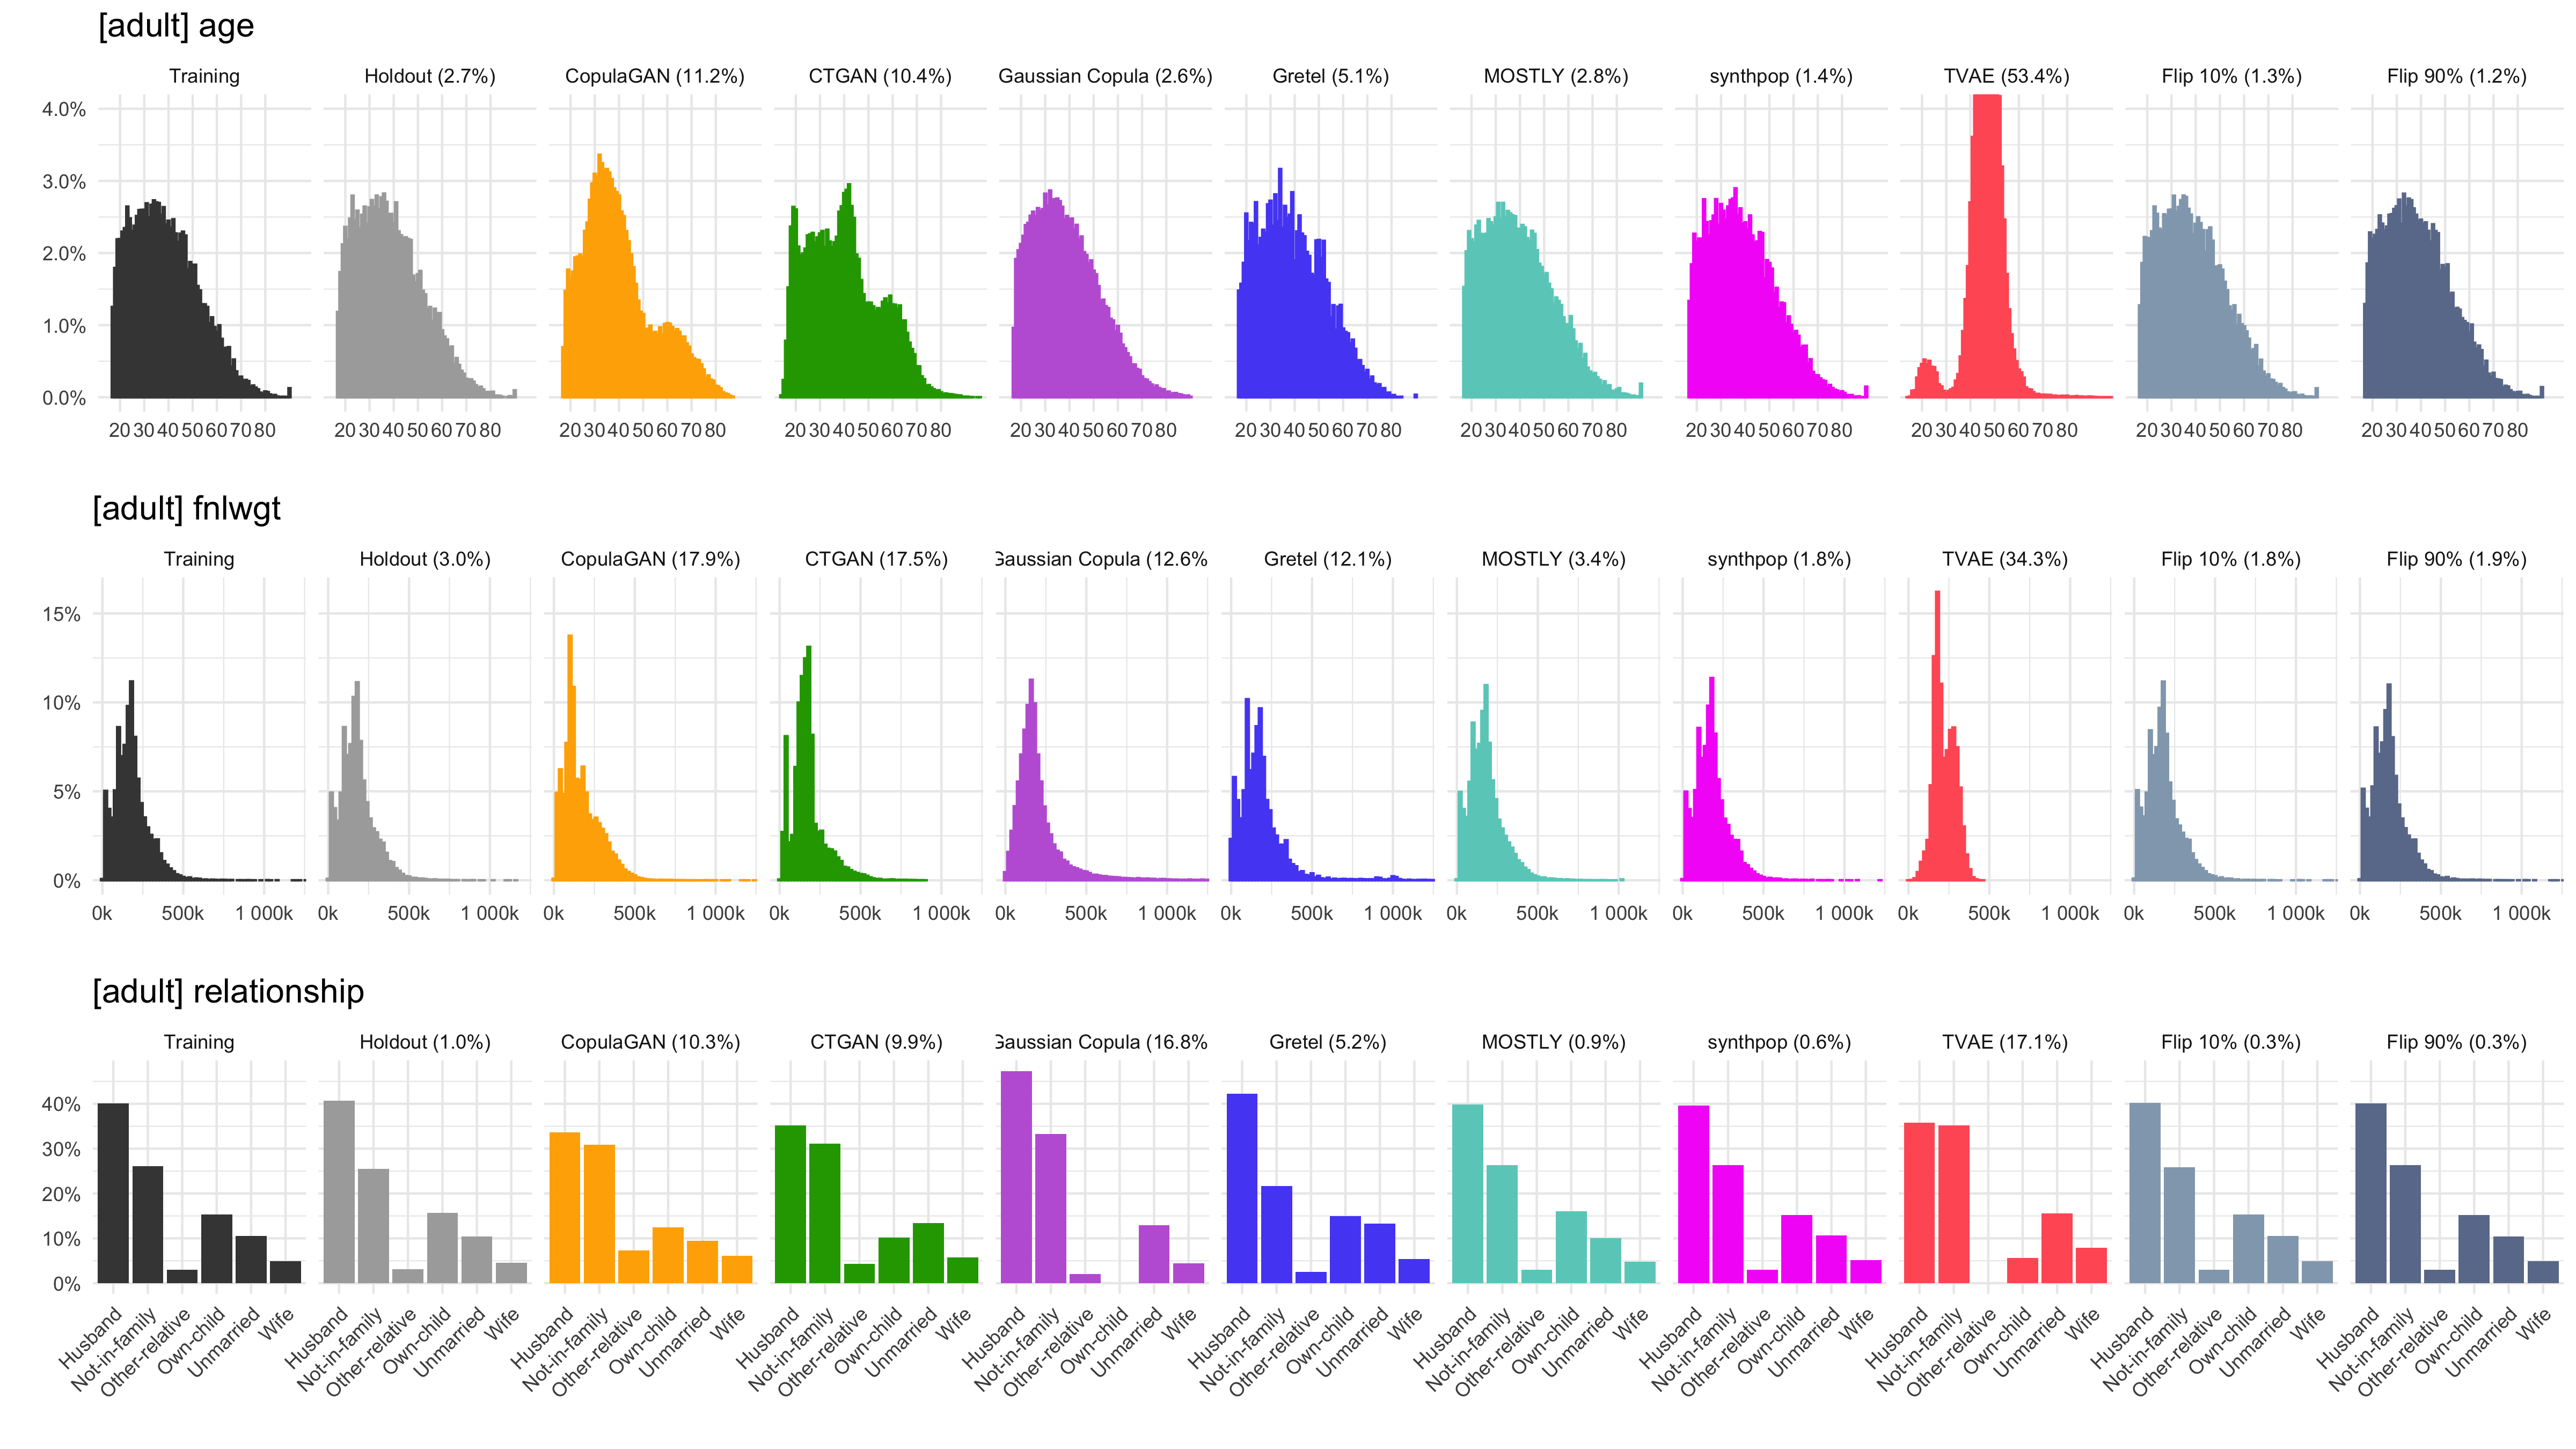

Layout of this report page (visuals, bound fields, positions):
{"tool":"tableau","page":{"name":"df_adult","canvas":[700,500],"ordinal":0},"visuals":[{"type":"worksheet","title":"df1","mark":"Automatic","rows":["priv_share"],"cols":["fid3_ratio"],"box":[8,8,524,484]},{"type":"blank","box":[532,8,160,32]},{"type":"legend","title":"df1","param":"[federated.0exfi0i05gmj3d14msn4h1me6b6n].[none:Calculation_5919700265430339584:n","box":[532,40,160,106]}]}

Visuals, with their boxes on the page's 700x500 design canvas (x1, y1, x2, y2). These are canvas units, not pixel positions in the 2576x1449 screenshot, which may show the page scaled, cropped or inside an application window:
"df1" worksheet: BBox(8, 8, 532, 492)
blank: BBox(532, 8, 692, 40)
"df1" legend: BBox(532, 40, 692, 146)
